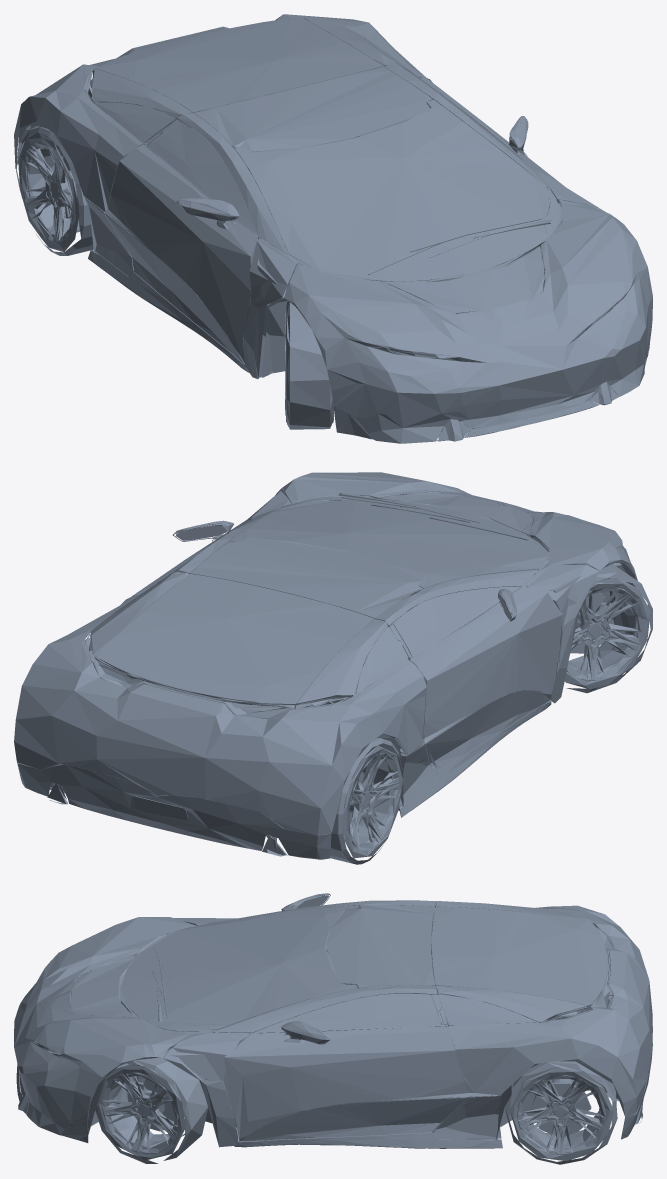
The model's file is CarConcept_LOD2.glb.
3 views of the same model, one above another, from view 1: azimuth 30°, elevation 25°; view 2: azimuth 150°, elevation 25°; view 3: azimuth 270°, elevation 25° (orthographic). The views are drawn at different scales.
Visible parts, largest first — view 1: geometry_58, geometry_108, geometry_67, geometry_42, geometry_66, geometry_75, geometry_65, geometry_61, geometry_64, geometry_15, geometry_51, geometry_5 (+11 smaller); view 2: geometry_66, geometry_67, geometry_108, geometry_42, geometry_64, geometry_75, geometry_58, geometry_65, geometry_19, geometry_57, geometry_51, geometry_5 (+12 smaller); view 3: geometry_108, geometry_66, geometry_26, geometry_58, geometry_67, geometry_75, geometry_65, geometry_34, geometry_64, geometry_28, geometry_11, geometry_25 (+16 smaller).
Boxes of the visible parts, box(x1,y1,x2,y2) form: geometry_58: box(284, 199, 652, 443); geometry_108: box(234, 99, 549, 281); geometry_67: box(95, 17, 383, 112); geometry_42: box(105, 144, 257, 362); geometry_66: box(14, 14, 432, 211); geometry_75: box(194, 66, 432, 151); geometry_65: box(177, 62, 599, 379); geometry_61: box(388, 246, 544, 313); geometry_64: box(16, 164, 651, 439); geometry_15: box(287, 301, 332, 429); geometry_51: box(148, 122, 257, 235); geometry_5: box(21, 142, 79, 243); geometry_66: box(14, 572, 426, 835); geometry_67: box(93, 573, 374, 703); geometry_108: box(229, 498, 548, 588); geometry_42: box(409, 586, 563, 743); geometry_64: box(16, 701, 551, 859); geometry_75: box(190, 537, 422, 618); geometry_58: box(278, 472, 637, 580); geometry_65: box(175, 491, 599, 703); geometry_19: box(567, 578, 643, 680); geometry_57: box(425, 690, 549, 770); geometry_51: box(393, 586, 520, 656); geometry_5: box(343, 753, 399, 850); geometry_108: box(122, 905, 358, 1029); geometry_66: box(436, 901, 652, 1116); geometry_26: box(224, 1026, 467, 1141); geometry_58: box(14, 917, 196, 1135); geometry_67: box(432, 906, 607, 1005); geometry_75: box(326, 904, 434, 988); geometry_65: box(163, 900, 437, 1147); geometry_34: box(240, 1097, 467, 1141); geometry_64: box(16, 1026, 652, 1148); geometry_28: box(255, 993, 441, 1032); geometry_11: box(517, 1075, 605, 1154); geometry_25: box(102, 1064, 184, 1154).
Bounding box in the file's own units: 2.54 × 1.15 × 4.36.
